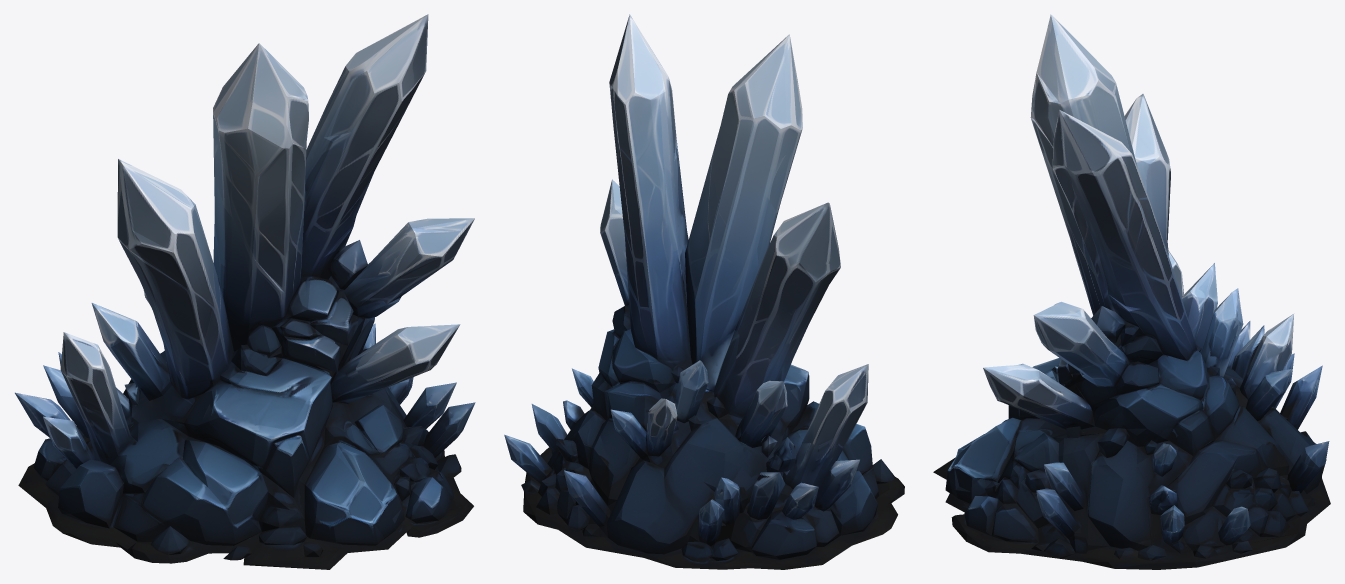
Rendered from SM_Ore27.fbx.
3 views of the same model, side by side, from view 1: azimuth 30°, elevation 25°; view 2: azimuth 150°, elevation 25°; view 3: azimuth 270°, elevation 25° (orthographic). The views are drawn at different scales.
Parts seen in each view (by area): view 1: Ore27; view 2: Ore27; view 3: Ore27.
Part boxes in pixels (bbox=[...]): Ore27: bbox=[15, 14, 475, 569]; Ore27: bbox=[504, 14, 904, 569]; Ore27: bbox=[933, 14, 1330, 569].
Bounding box in the file's own units: 122 × 149 × 118.
1 material, 1 textured.
